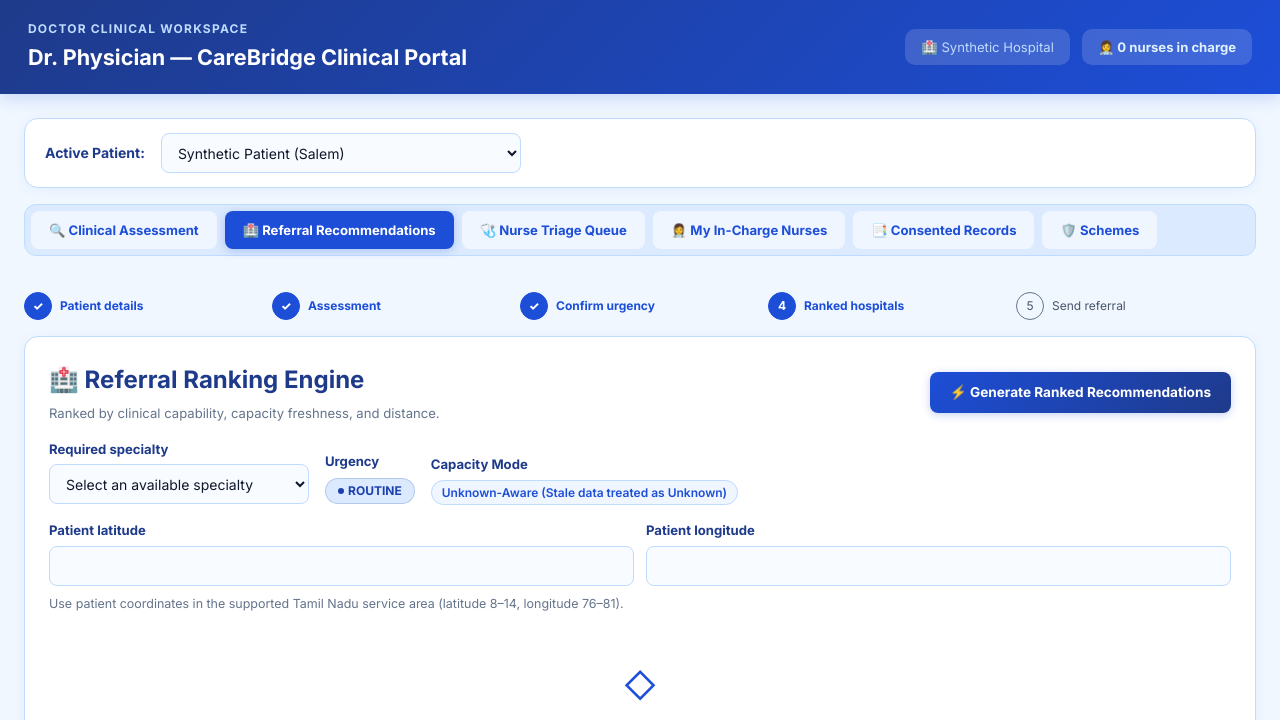
it: doctor assessment and referral results › does not show a referral code when ranking finds no suitable hospitals
Select "Cardiology" in the dropdown labelled "Required specialty" at (179, 484), box 49,464 -> 309,504
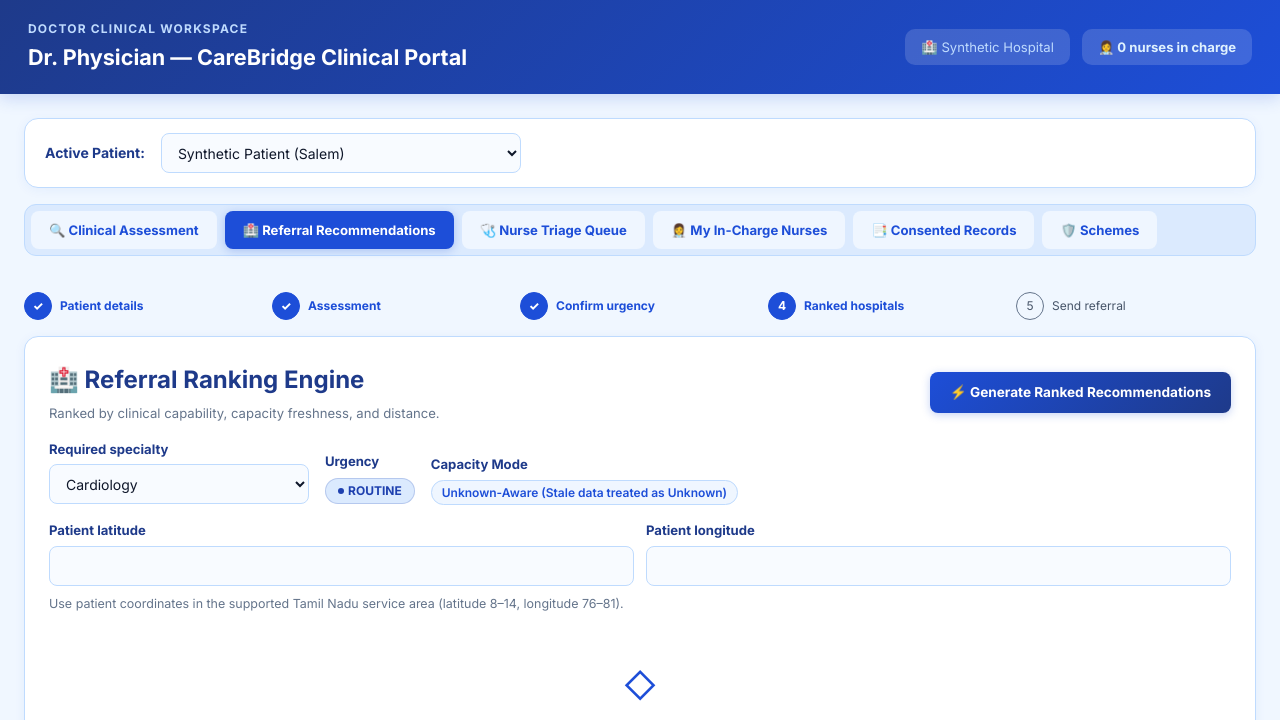
Type "11.66" into the number field labelled "Patient latitude" at (342, 566), box 49,546 -> 634,586
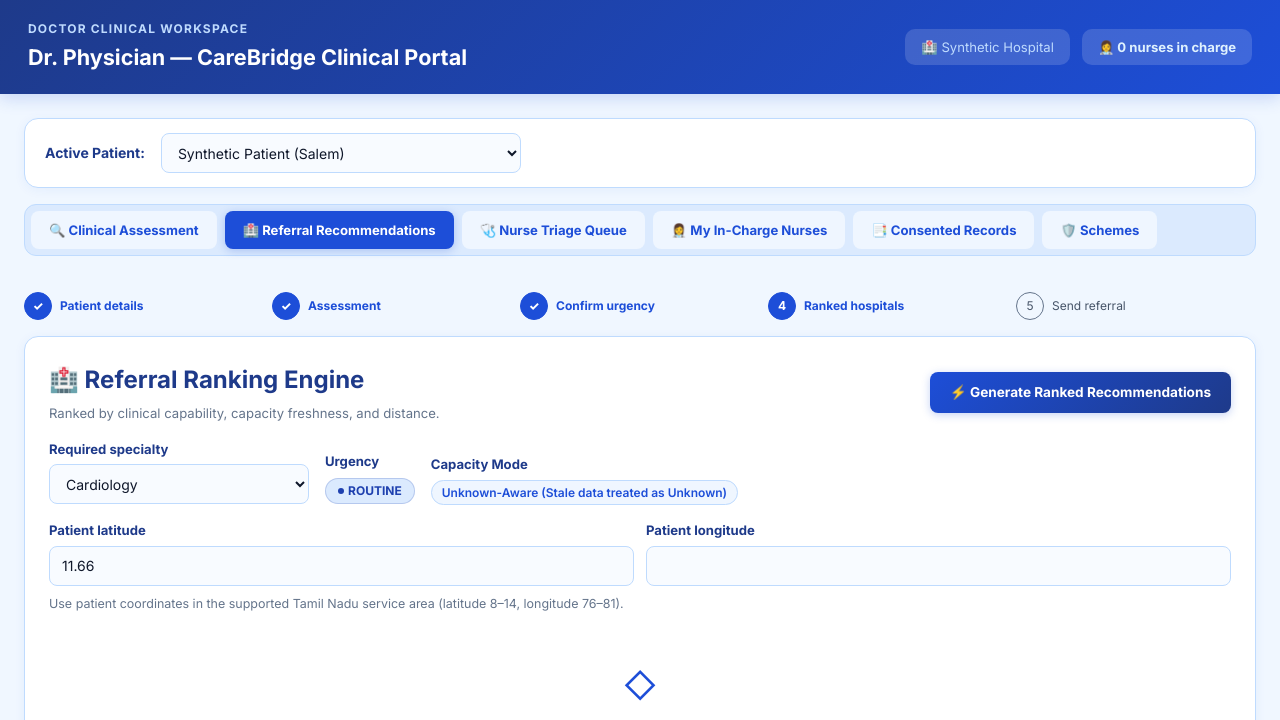
Type "78.14" into the number field labelled "Patient longitude" at (938, 566), box 646,546 -> 1231,586
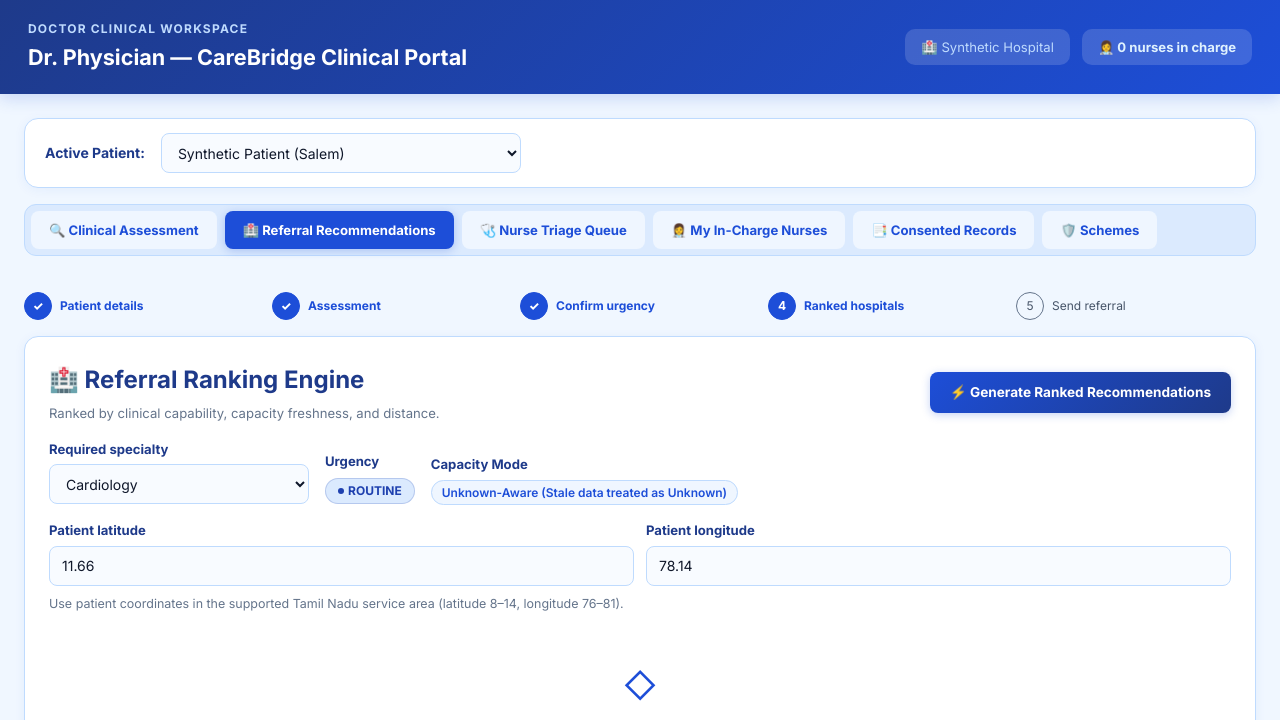
Click the button "⚡ Generate Ranked Recommendations" at (1080, 392), box 930,372 -> 1231,413
(page scrolled)
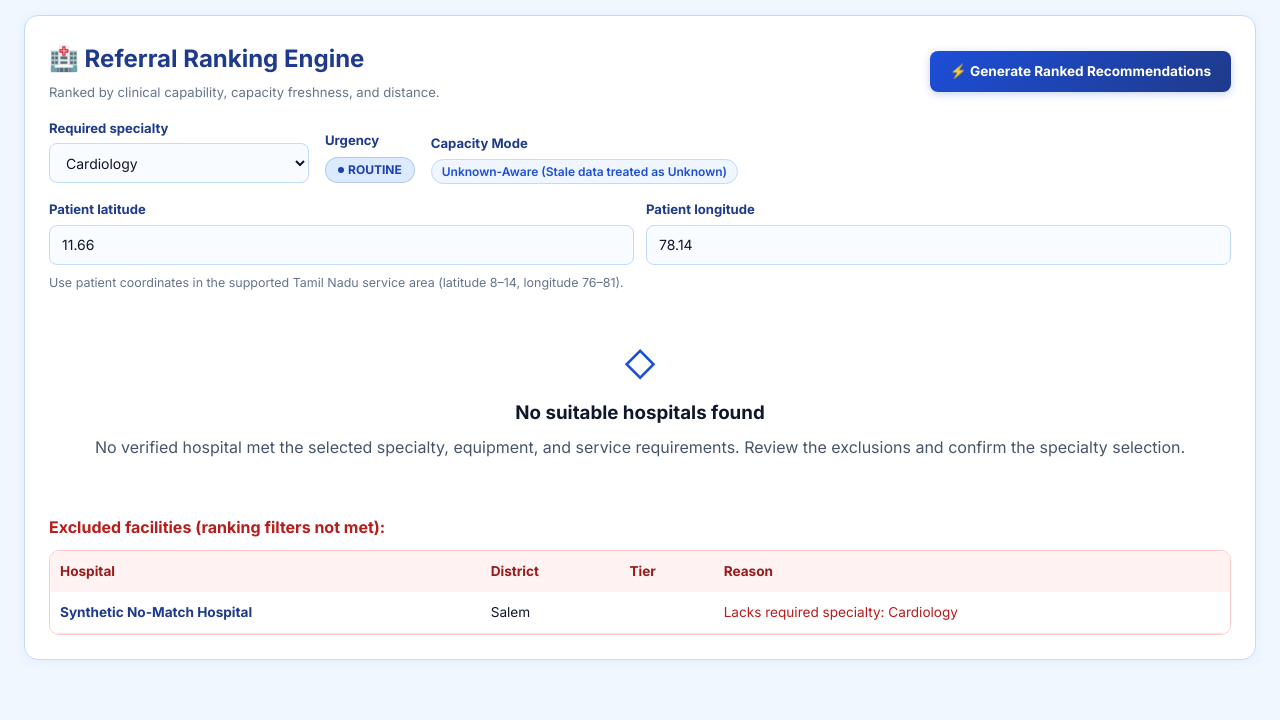
Now the heading "No suitable hospitals found" is shown, box 515,401 -> 765,424
Now the text "Lacks required specialty: Cardiology" is shown, box 714,592 -> 1230,634
